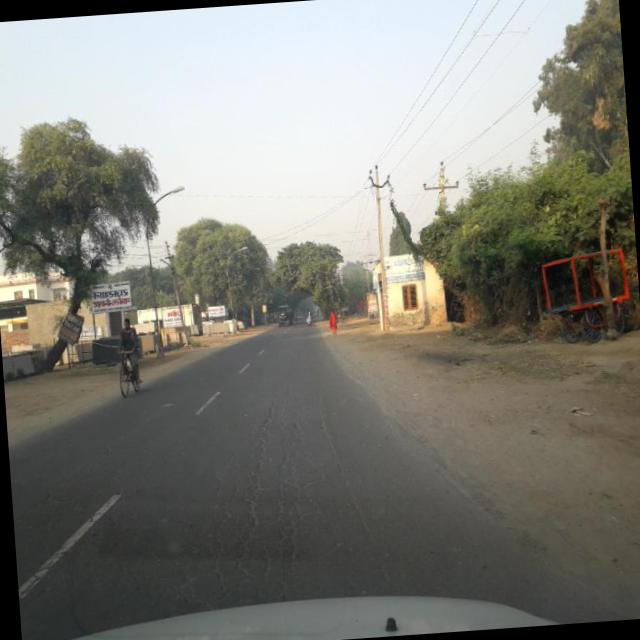crack: (183, 384, 320, 606)
pothole: (310, 376, 405, 591)
